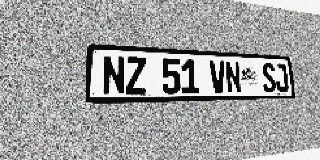1: (180, 59, 199, 94)
5: (161, 58, 181, 94)
J: (274, 63, 289, 92)
N: (103, 55, 125, 95), (225, 61, 242, 93)
S: (261, 63, 276, 92)
V: (209, 60, 226, 93)
Z: (125, 56, 147, 95)
